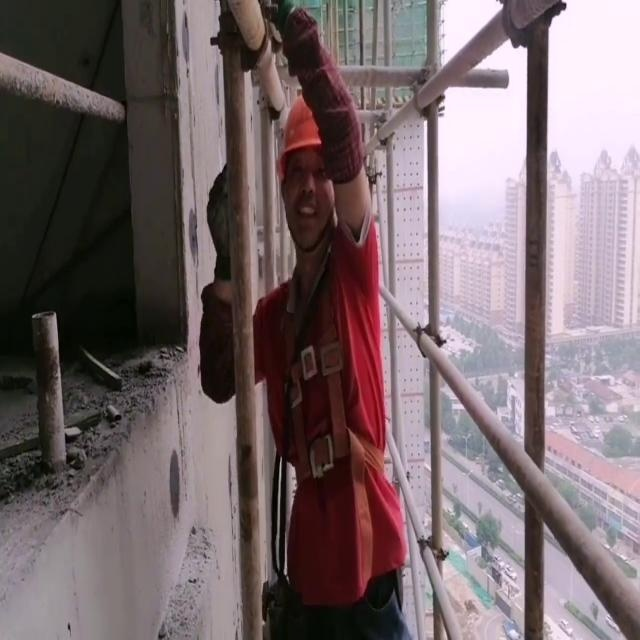Arnes_seguridad: (269, 246, 391, 491)
